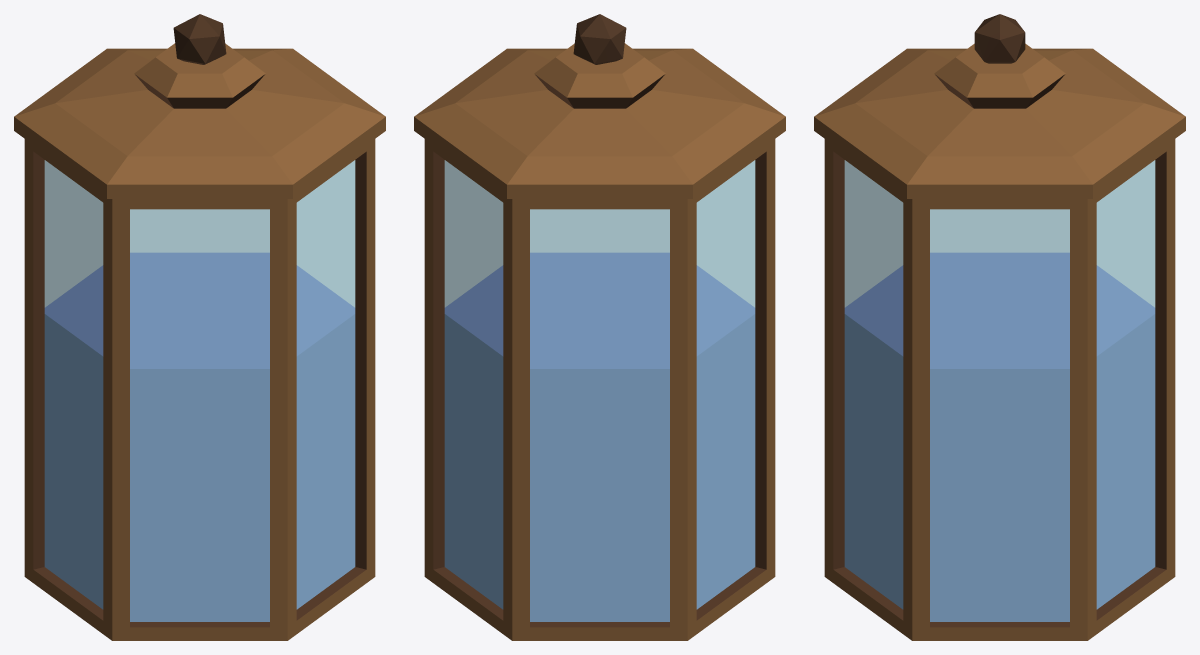
The model's file is Bottle_12.glb.
The picture shows the model from 3 angles, left to right: view 1: azimuth 30°, elevation 25°; view 2: azimuth 150°, elevation 25°; view 3: azimuth 270°, elevation 25°; orthographic projection.
Visible parts, largest first — view 1: Bottle_12; view 2: Bottle_12; view 3: Bottle_12.
Boxes of the visible parts, x1,y1,x2,y2 form: Bottle_12: (14, 14, 385, 640); Bottle_12: (414, 14, 785, 640); Bottle_12: (814, 14, 1185, 640).
Size of what is drawn, in the model's own units: 0.2625 by 0.5061 by 0.3031.
2 materials, 2 textured.
